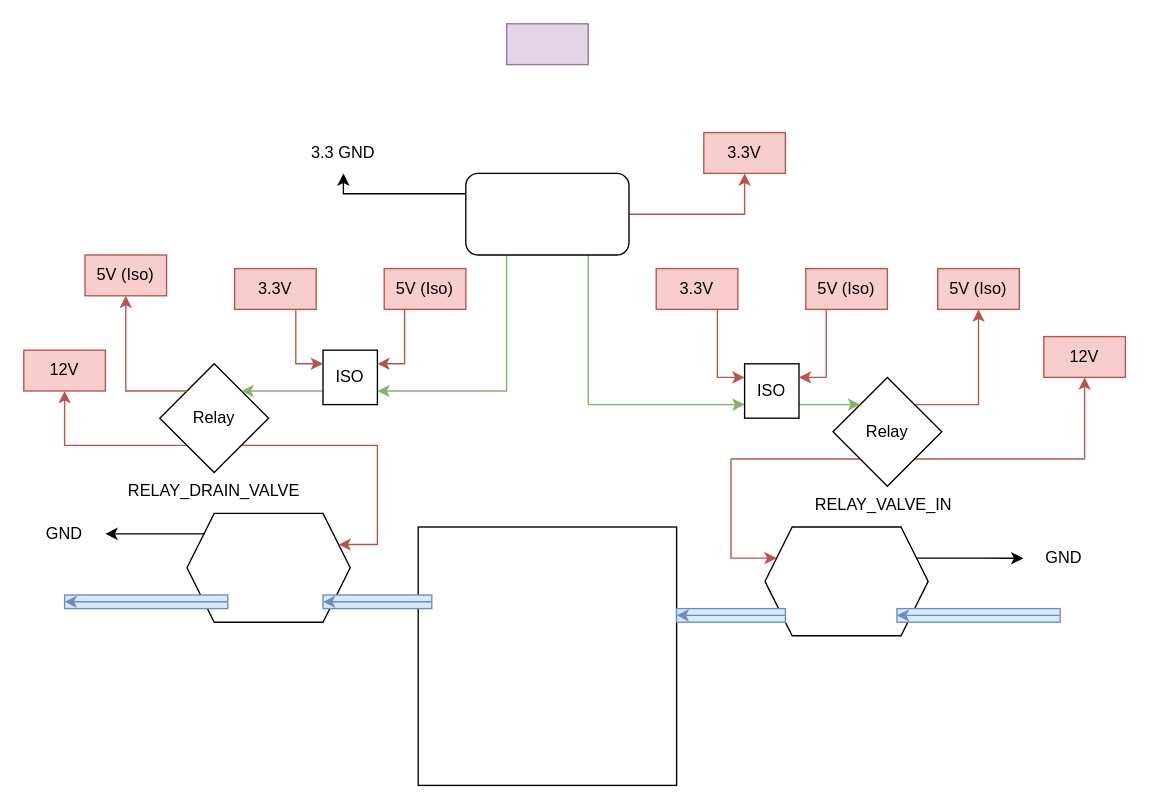
This 1149x809 diagram has some shape labels left out. The shapes that lost their labels are listed below. From the top down, each one's centre as x and y in pixels, then its label:
At point (546, 43): "WATER CIRCUIT".
At point (546, 213): "ESP32 - C6".
At point (268, 567): "Solenoid valve (OUTPUT)".
At point (846, 581): "Solenoid valve (INPUT)".
At point (547, 655): "DishWasher".
